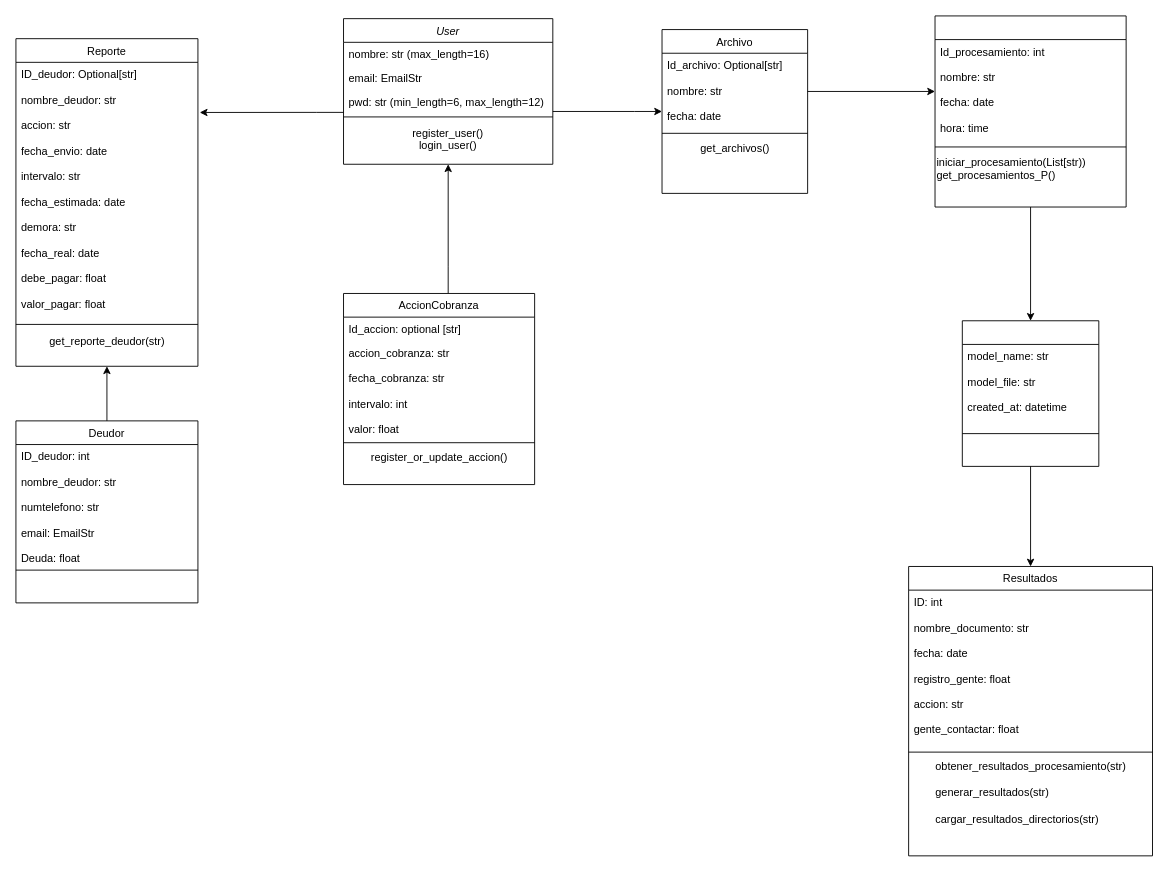
Some shapes in this 1168 by 872 pixel diagram are drawn without their labels. Each missing label, with the box of its shape:
KMeansModel: (961, 320, 1099, 466)
ProcesamientoP: (934, 15, 1126, 207)
